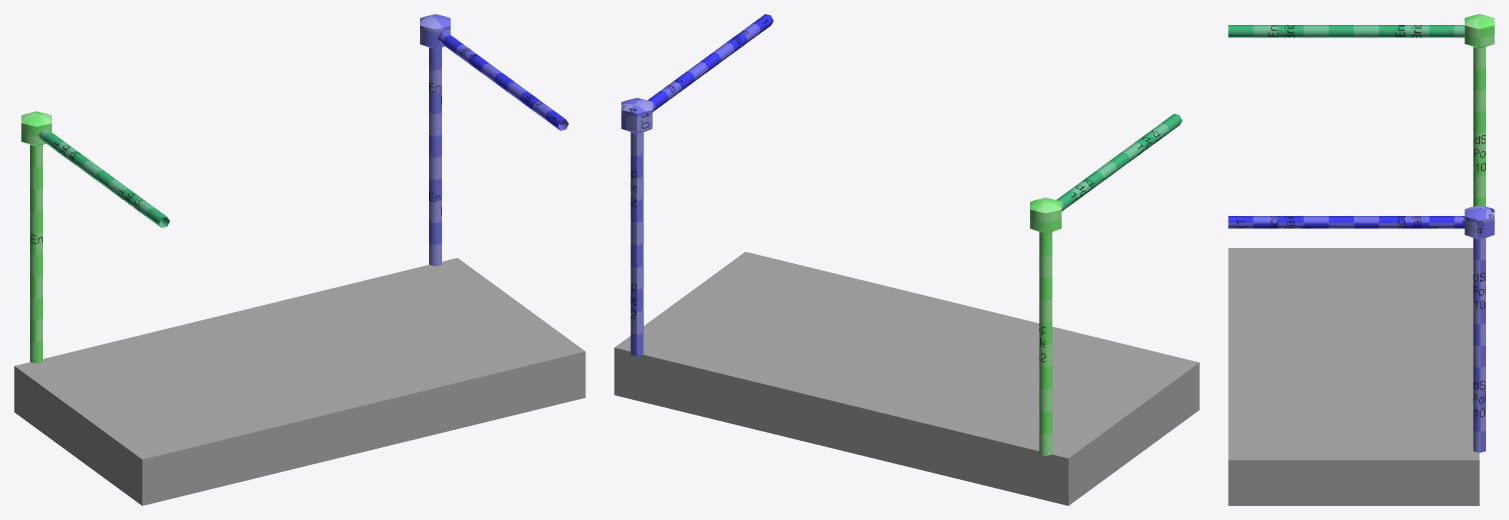
File: bridge_straight_short.fbx
3 renders of one model, left to right at view 1: azimuth 30°, elevation 25°; view 2: azimuth 150°, elevation 25°; view 3: azimuth 270°, elevation 25°, orthographic. The views are drawn at different scales.
Visible parts, largest first — view 1: bridge_straight_short_floor, bridge_straight_short; view 2: bridge_straight_short_floor, bridge_straight_short; view 3: bridge_straight_short_floor, bridge_straight_short.
Part boxes in pixels (left/top/right/bottom): bridge_straight_short_floor: left=14, top=258, right=585, bottom=505; bridge_straight_short: left=21, top=14, right=568, bottom=363; bridge_straight_short_floor: left=614, top=251, right=1199, bottom=505; bridge_straight_short: left=621, top=14, right=1182, bottom=455; bridge_straight_short_floor: left=1228, top=248, right=1479, bottom=505; bridge_straight_short: left=1228, top=14, right=1494, bottom=452.
Bounding box in the file's own units: 200 × 126 × 106.
